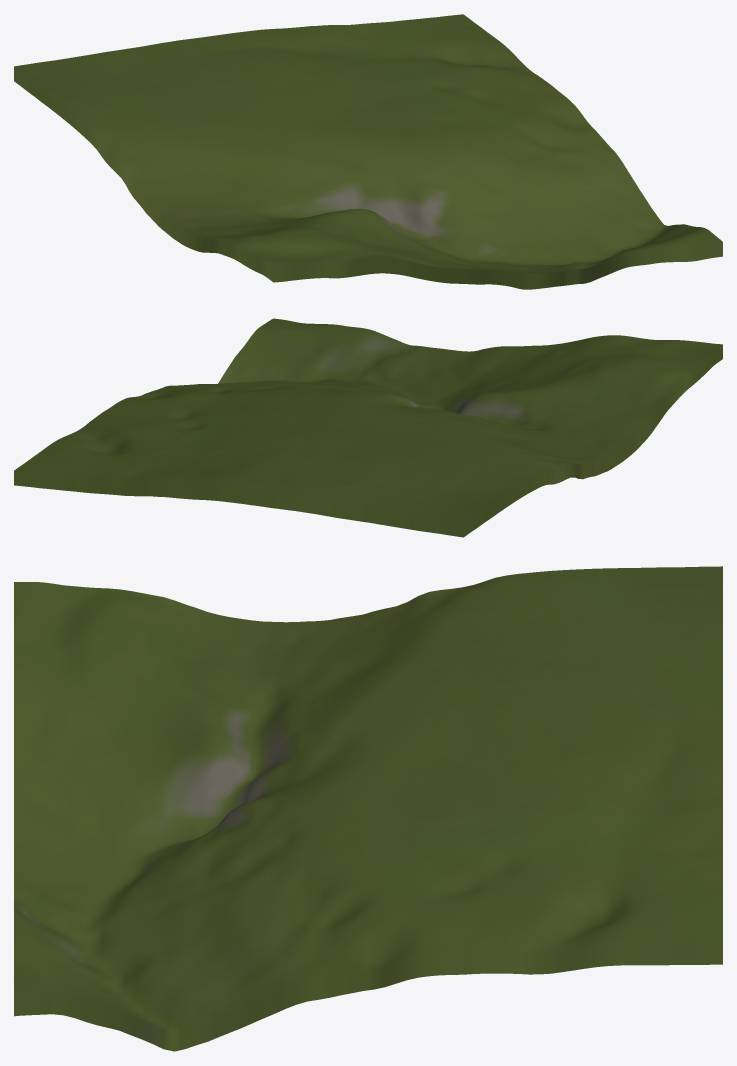
File: terrain_7_-20.glb
3 views of the same model, one above another, from view 1: azimuth 30°, elevation 25°; view 2: azimuth 150°, elevation 25°; view 3: azimuth 270°, elevation 25° (orthographic). The views are drawn at different scales.
Visible parts, largest first — view 1: terrain_7_-20; view 2: terrain_7_-20; view 3: terrain_7_-20.
Part boxes in pixels (<box>): terrain_7_-20: <box>14,14,722,289</box>; terrain_7_-20: <box>14,318,722,537</box>; terrain_7_-20: <box>14,566,722,1051</box>.
Bounding box in the file's own units: 256 × 73.95 × 256.
